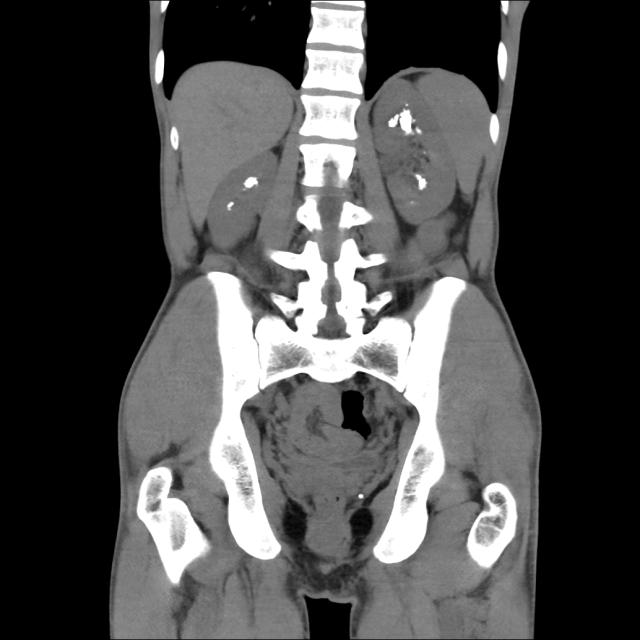kidneystone: (389, 109, 414, 133), (416, 174, 428, 190), (244, 176, 258, 188), (226, 201, 235, 210)
